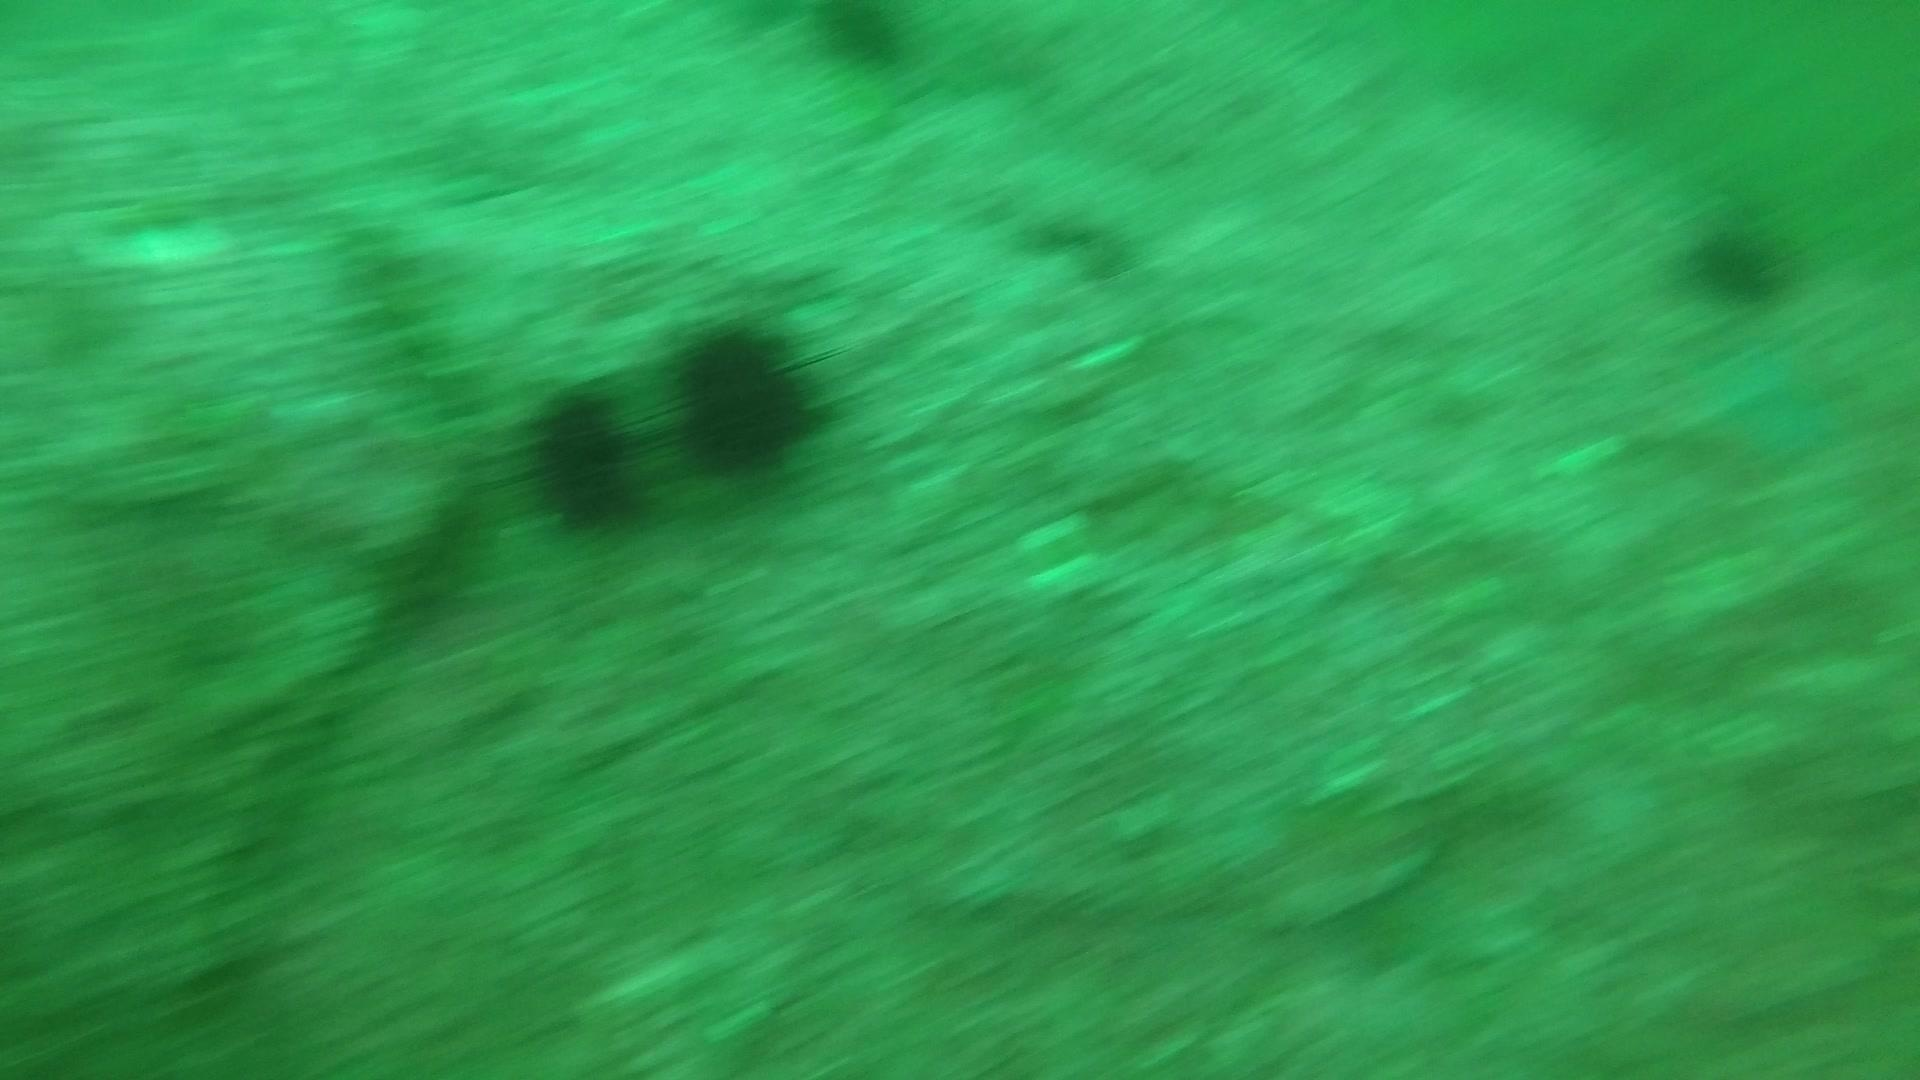echinus: (661, 311, 833, 480), (518, 384, 650, 535), (1679, 208, 1801, 309), (800, 0, 920, 75)
